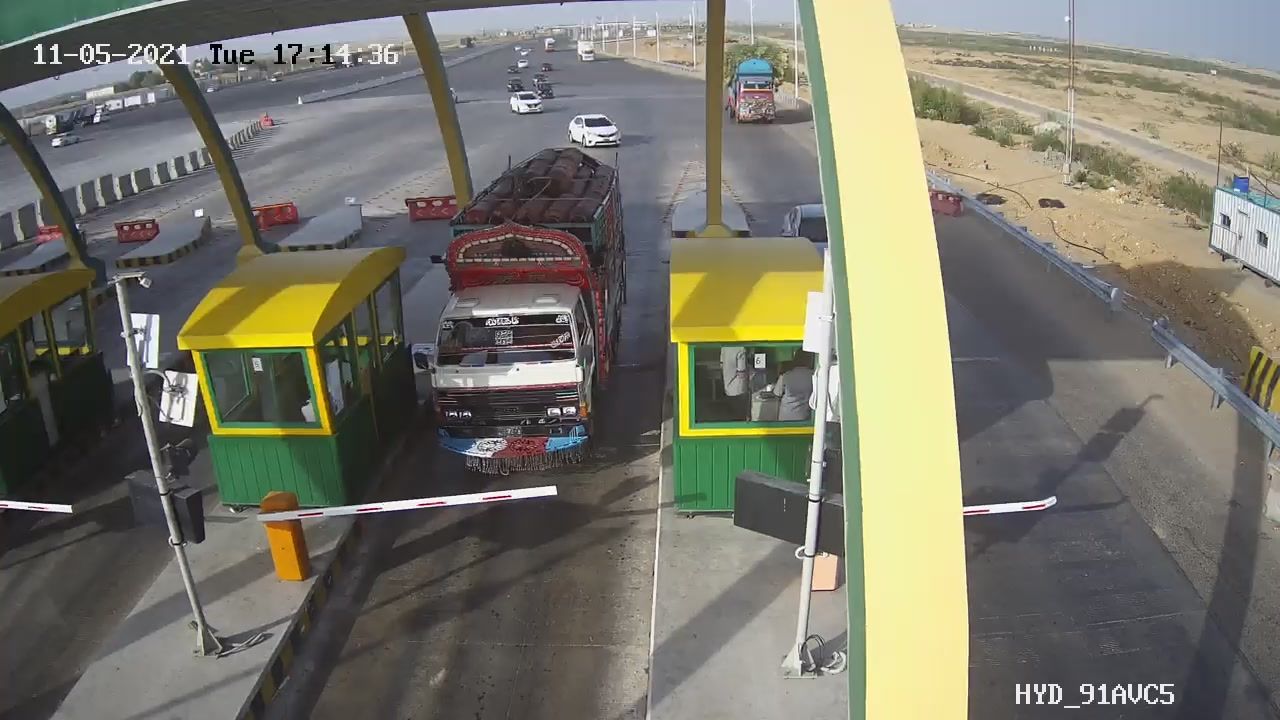F5: (403, 131, 647, 488)
